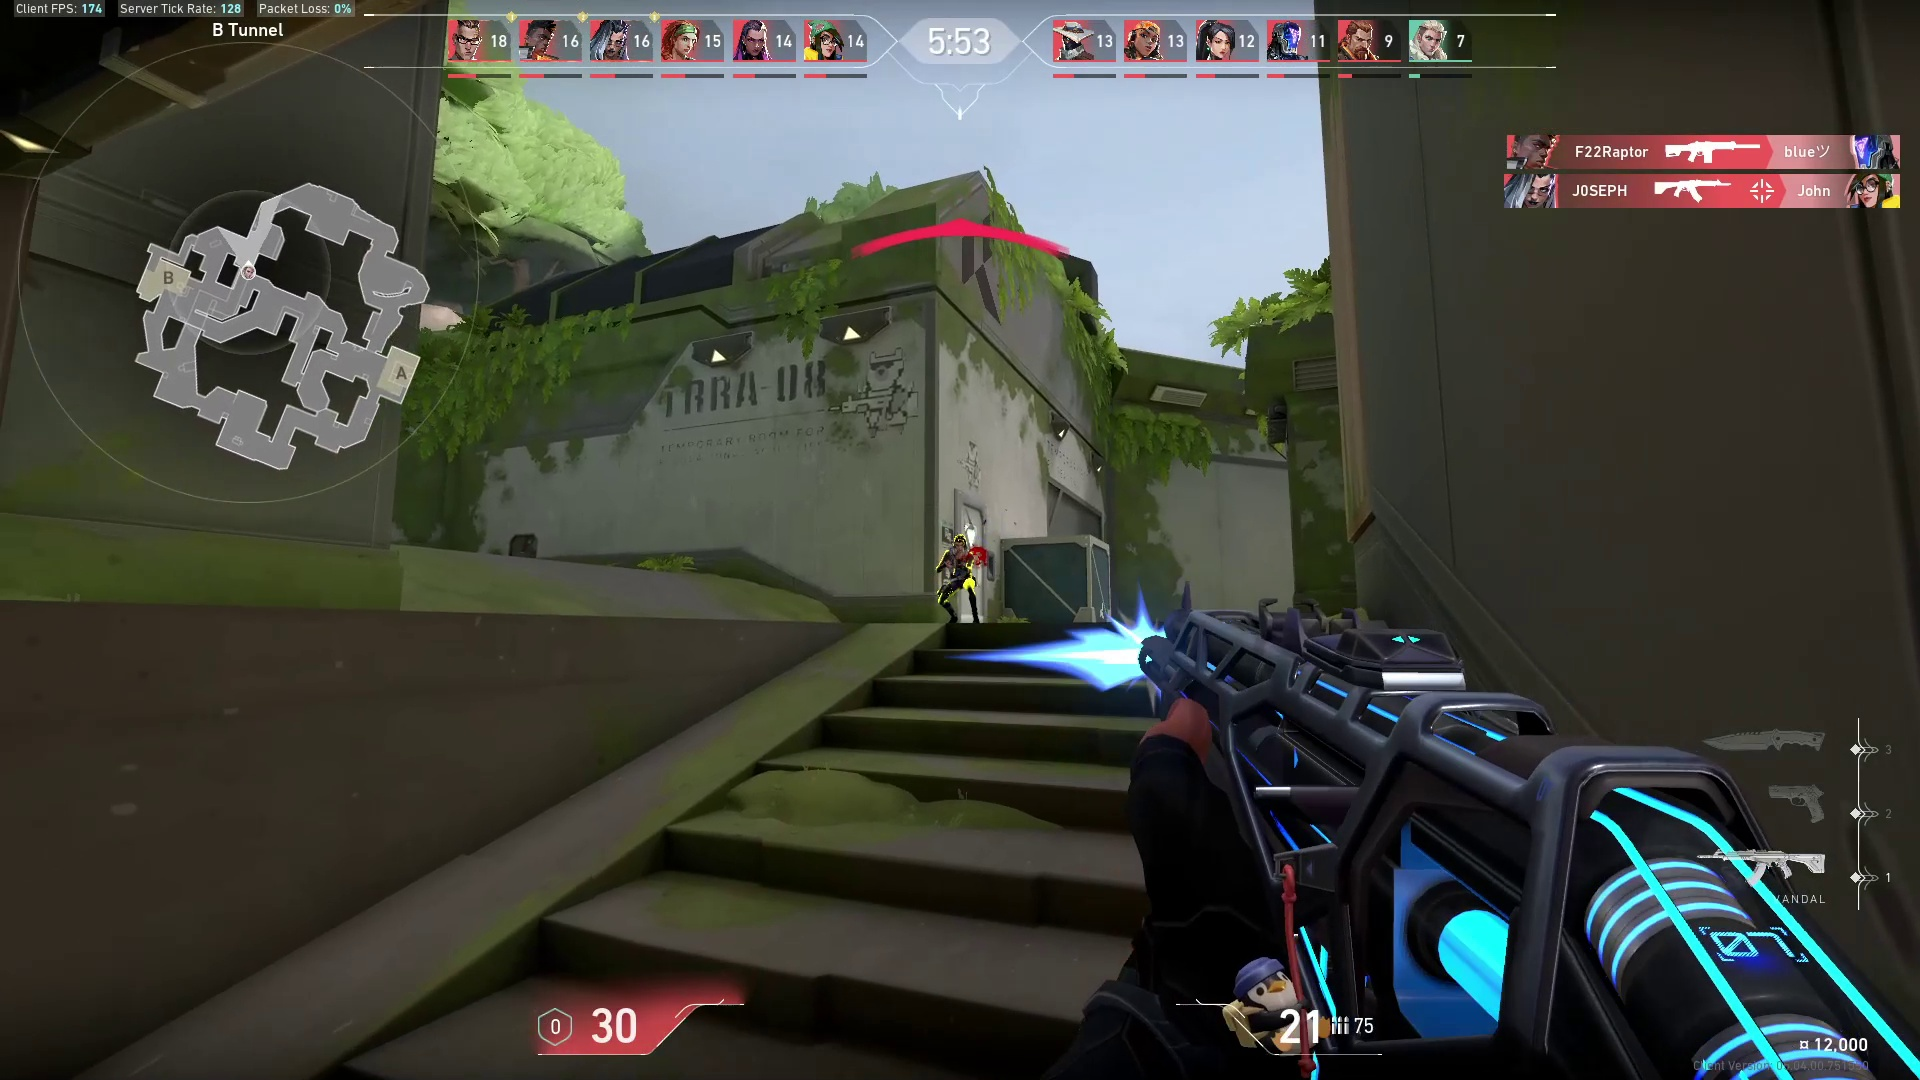enemy_body: (934, 551, 989, 627)
enemy_head: (948, 529, 972, 555)
